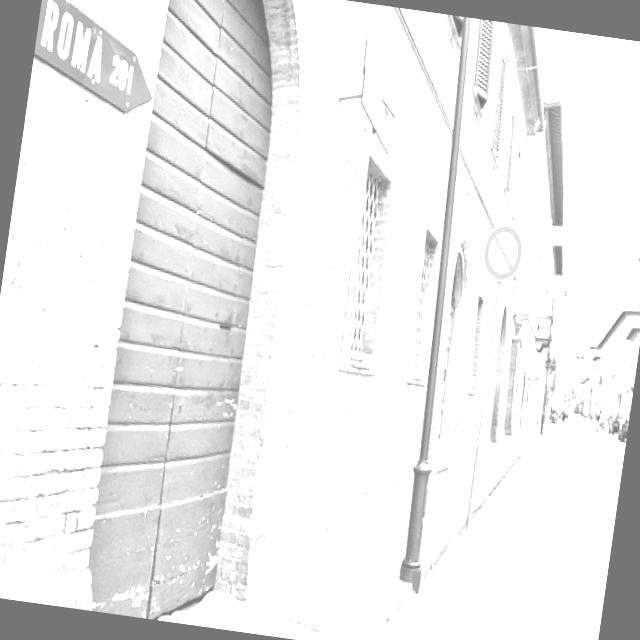Vehicle: (616, 402, 632, 441), (607, 409, 626, 437)
